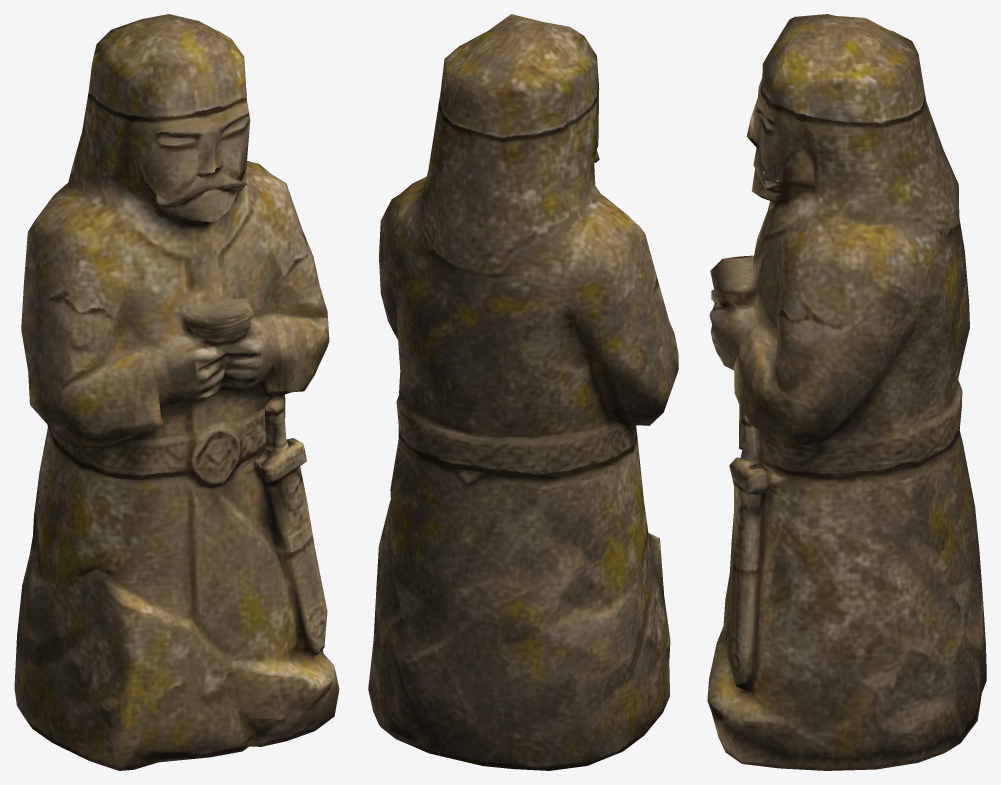
The model's file is balbal.glb.
3 renders of one model, left to right at view 1: azimuth 30°, elevation 25°; view 2: azimuth 150°, elevation 25°; view 3: azimuth 270°, elevation 25°, orthographic.
Visible parts, largest first — view 1: balbal.raw; view 2: balbal.raw; view 3: balbal.raw.
Boxes of the visible parts, x1,y1,x2,y2 form: balbal.raw: [14, 14, 339, 770]; balbal.raw: [368, 14, 678, 770]; balbal.raw: [707, 14, 986, 770].
Bounding box in the file's own units: 0.679 × 1.6 × 0.586.
Materials: 1 (1 with a texture image).
